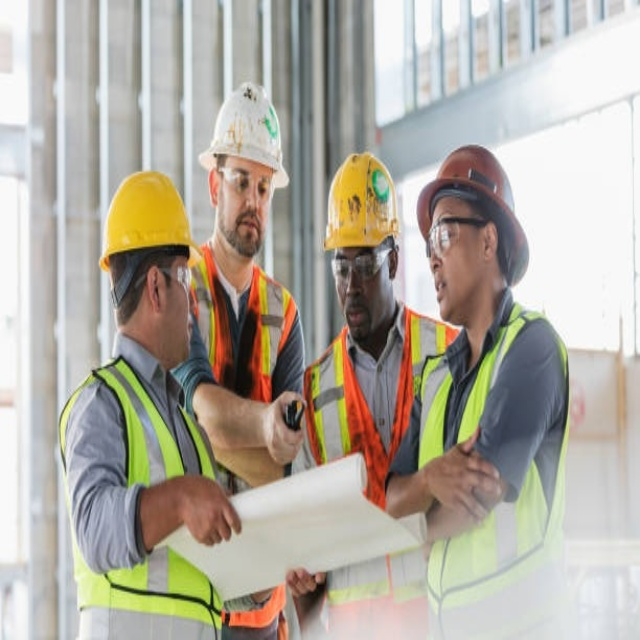Gafas: (426, 209, 484, 265), (330, 243, 392, 286), (218, 161, 278, 202), (150, 259, 196, 297)
Sin_guantes: (422, 422, 503, 533), (172, 473, 245, 549), (262, 390, 309, 467), (286, 565, 325, 600)
Sin_mascara: (232, 206, 266, 247), (432, 270, 458, 318), (344, 300, 370, 333)
